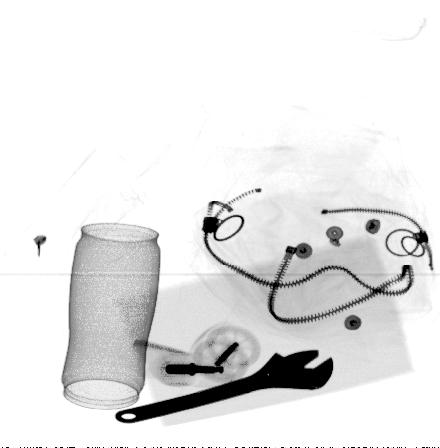Wrench: (111, 349, 336, 427)
